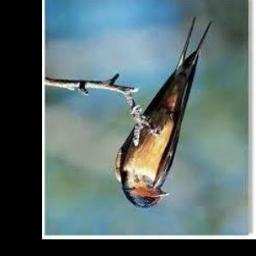Swallow: (115, 18, 212, 209)
